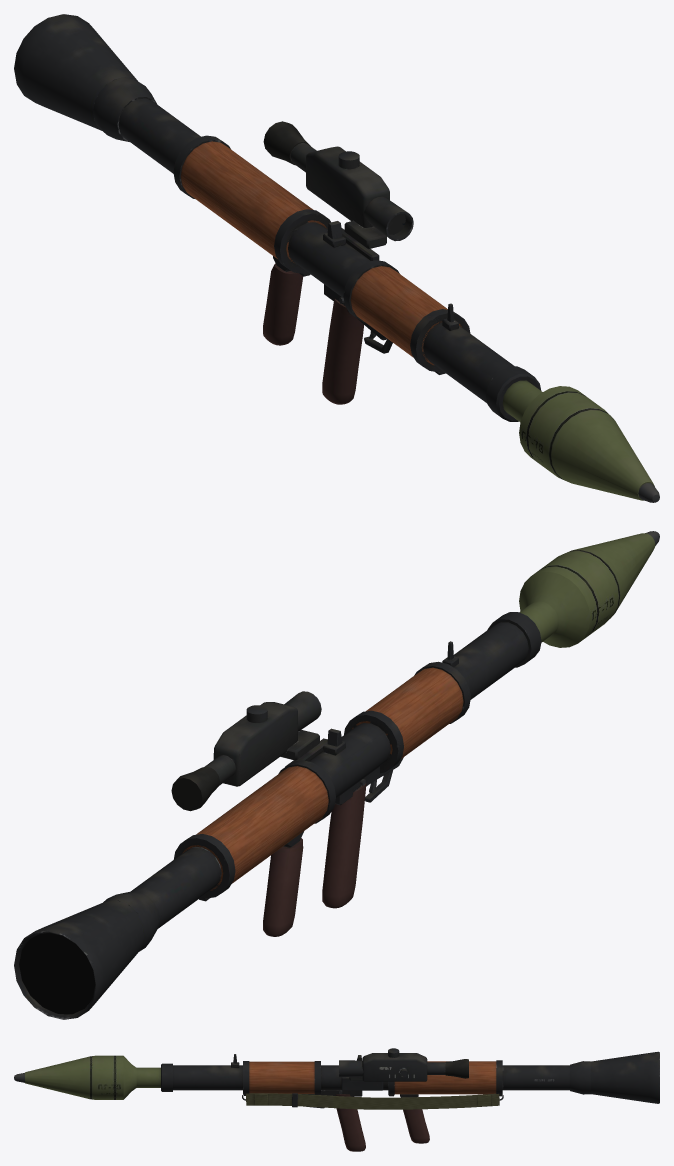
Rendered from rpg7.glb.
3 renders of one model, top to bottom at view 1: azimuth 30°, elevation 25°; view 2: azimuth 150°, elevation 25°; view 3: azimuth 270°, elevation 25°, orthographic. The views are drawn at different scales.
Parts seen in each view (by area): view 1: rpg7_mesh; view 2: rpg7_mesh; view 3: rpg7_mesh.
Boxes of the visible parts, x1,y1,x2,y2 form: rpg7_mesh: [14, 14, 659, 502]; rpg7_mesh: [14, 531, 659, 1019]; rpg7_mesh: [14, 1048, 659, 1151].
Size of what is drawn, in the model's own units: 0.1295 by 0.236 by 1.24.
1 material, 1 textured.
